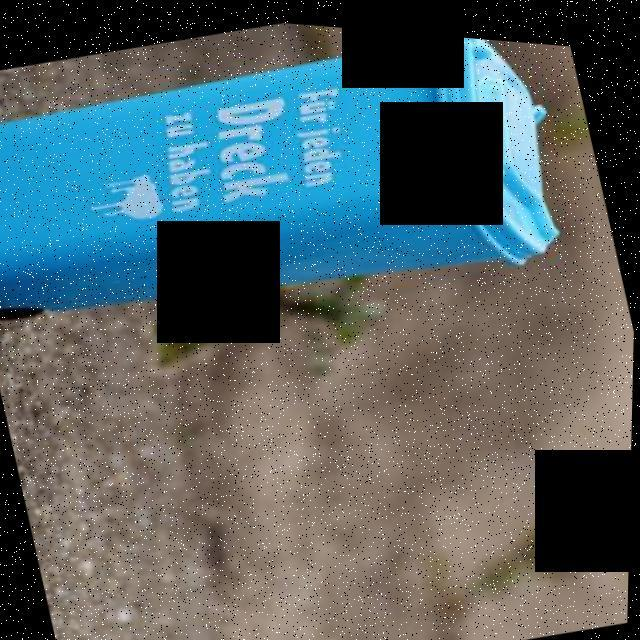bin: (0, 0, 598, 407)
